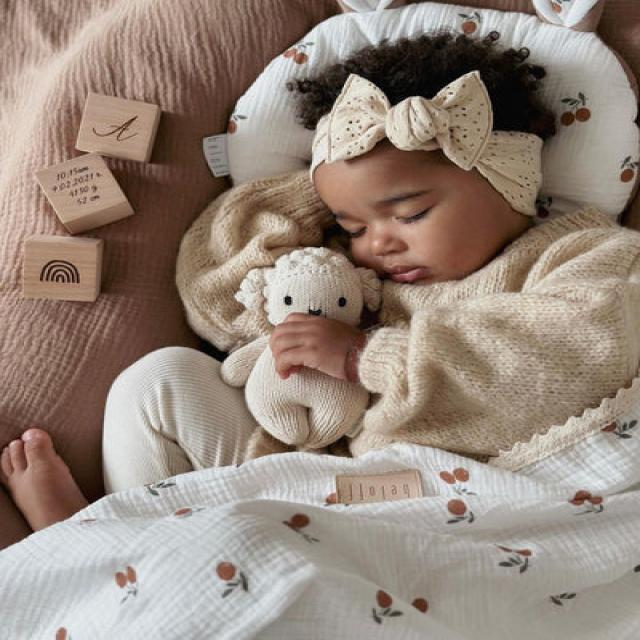soft-toy: (222, 249, 381, 450)
